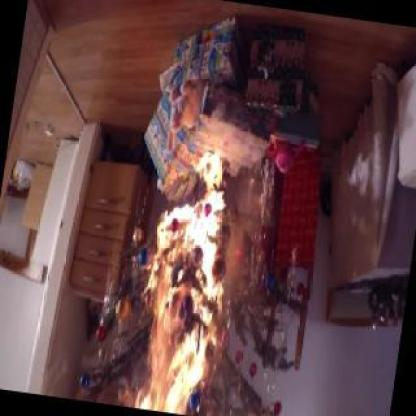Fire: (127, 147, 238, 415)
